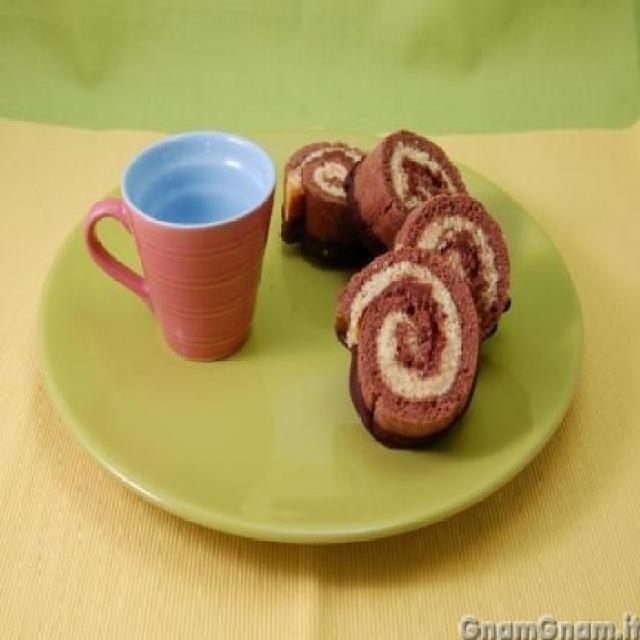Merendine packaged: (336, 249, 484, 453), (395, 192, 513, 350), (346, 128, 480, 260), (277, 140, 393, 268)
